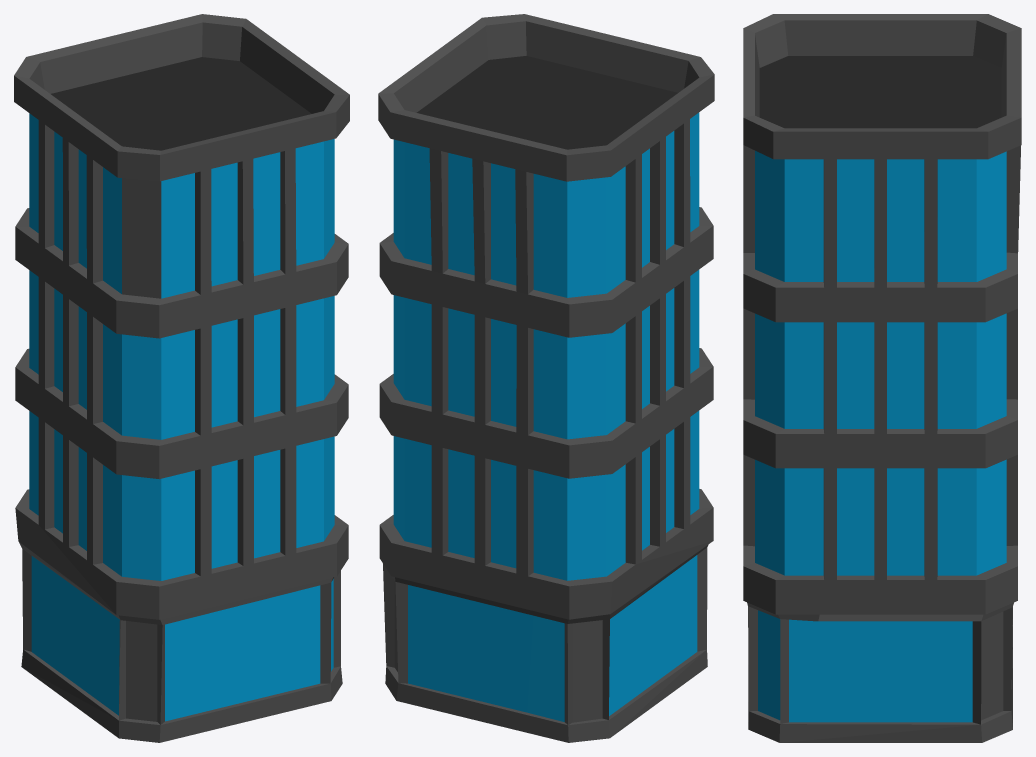
File: Tower1.fbx
3 renders of one model, left to right at view 1: azimuth 30°, elevation 25°; view 2: azimuth 150°, elevation 25°; view 3: azimuth 270°, elevation 25°, orthographic. The views are drawn at different scales.
Parts seen in each view (by area): view 1: Tower1; view 2: Tower1; view 3: Tower1.
Part boxes in pixels (<box>): Tower1: <box>14,14,349,742</box>; Tower1: <box>378,14,714,742</box>; Tower1: <box>743,14,1021,742</box>.
Bounding box in the file's own units: 7.24 × 17.56 × 7.23.
